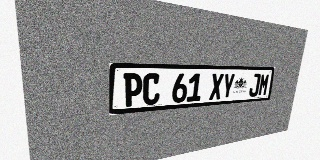1: (187, 73, 203, 102)
6: (172, 73, 188, 103)
C: (142, 73, 161, 105)
J: (248, 73, 261, 97)
M: (258, 73, 270, 96)
P: (123, 73, 143, 107)
X: (209, 73, 224, 100)
Y: (221, 73, 235, 99)
